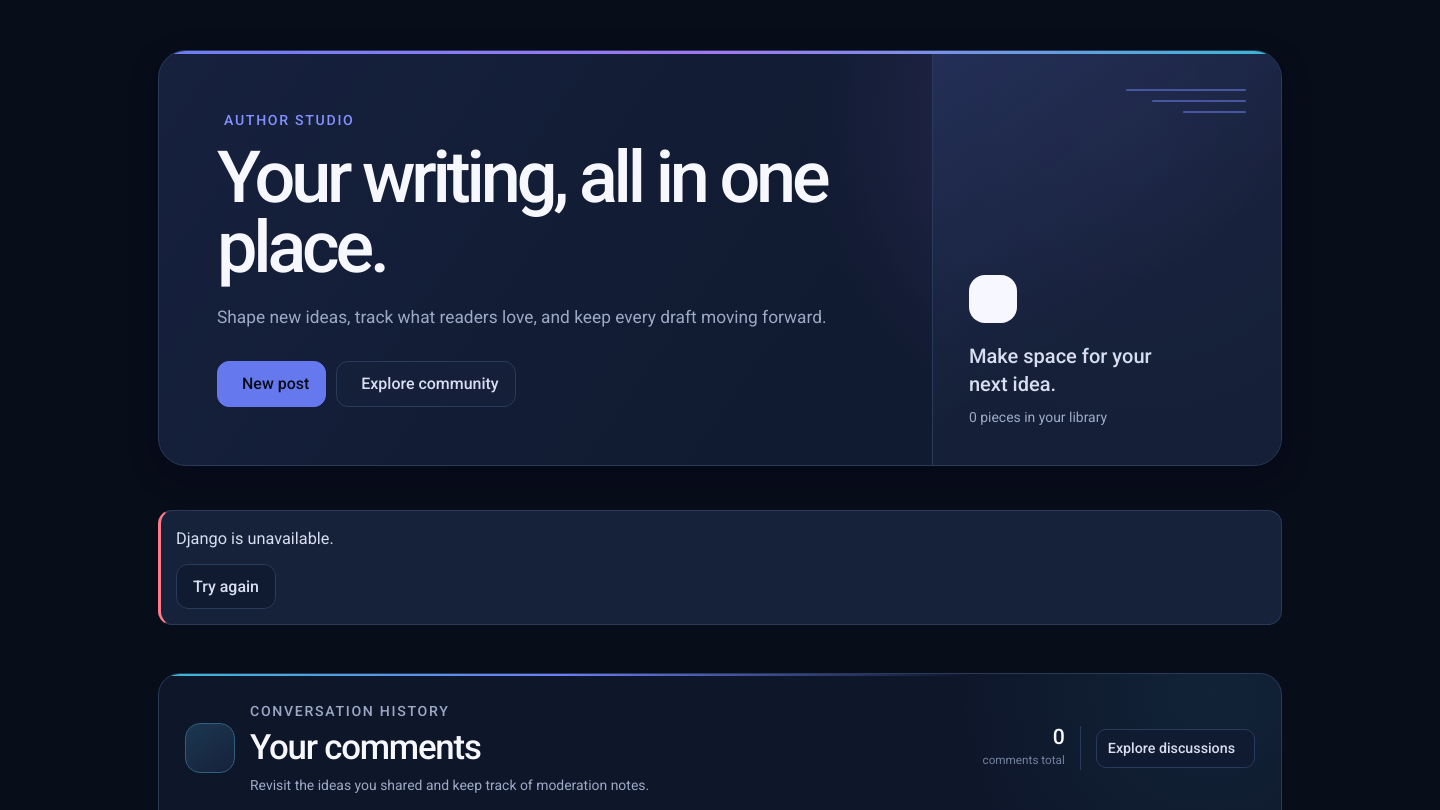
DashboardPage › shows an API error and retries the request
expect the message shows "Django is unavailable.": met, box x1=176 y1=529 x2=334 y2=548
Step 1. Click the button "Try again" → (226, 587), box x1=176 y1=564 x2=276 y2=609
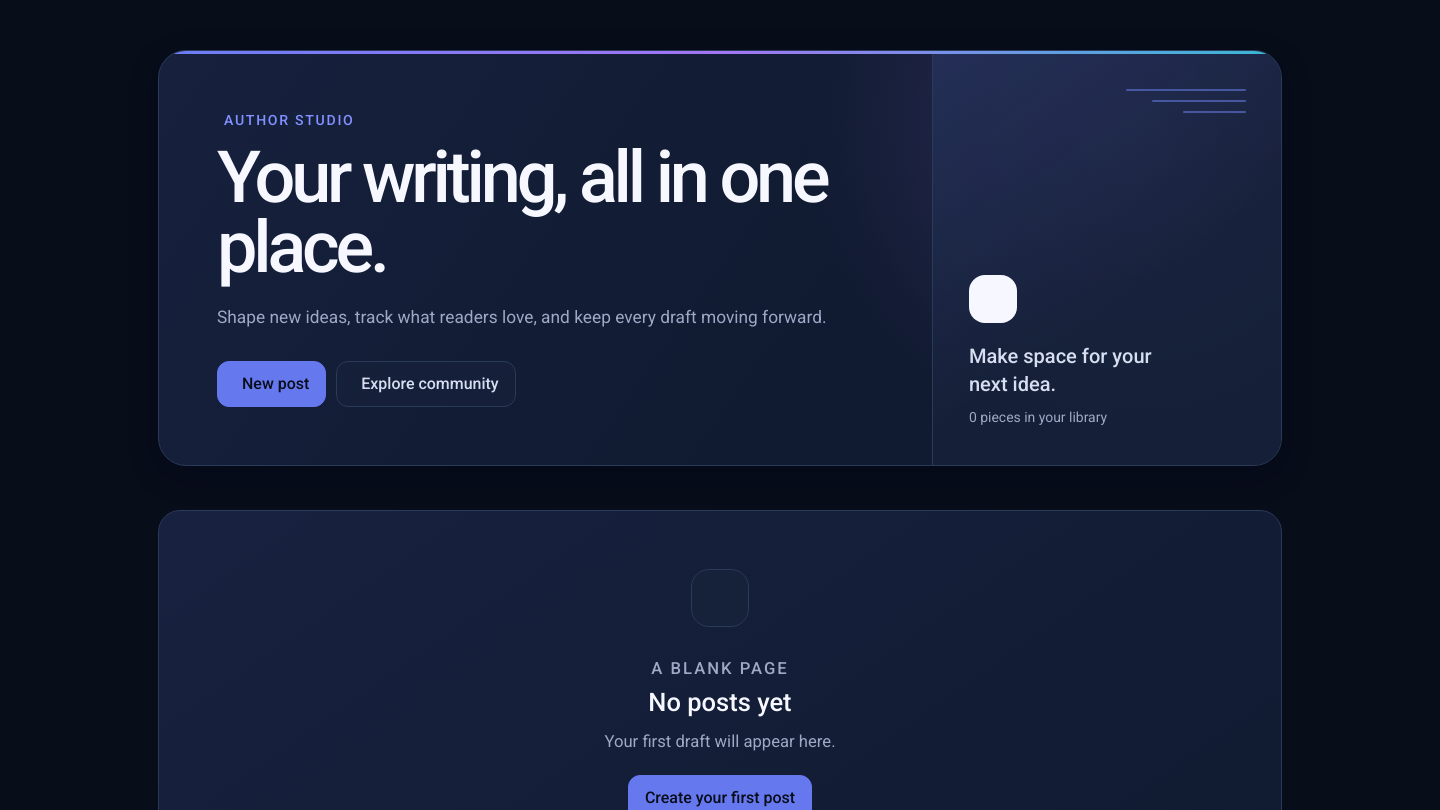
expect the heading "No posts yet" is shown: met, box x1=648 y1=687 x2=792 y2=718
